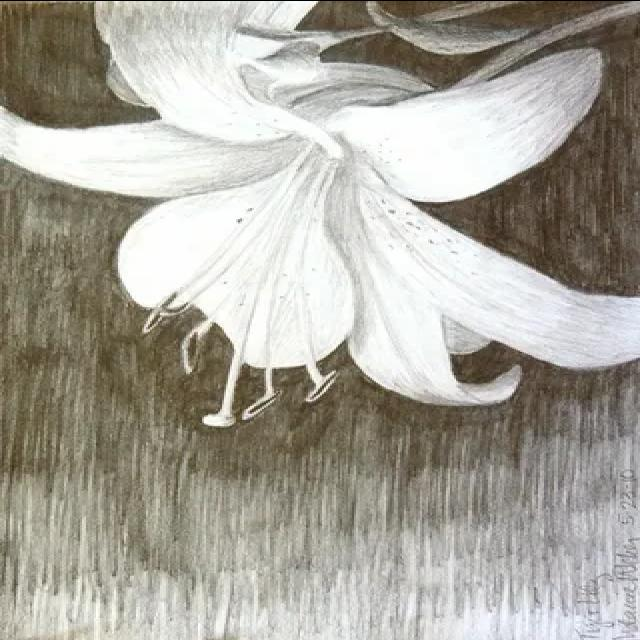lily: (0, 0, 640, 438)
